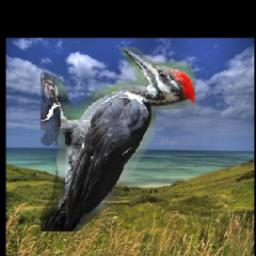Woodpecker: (42, 47, 196, 231)
